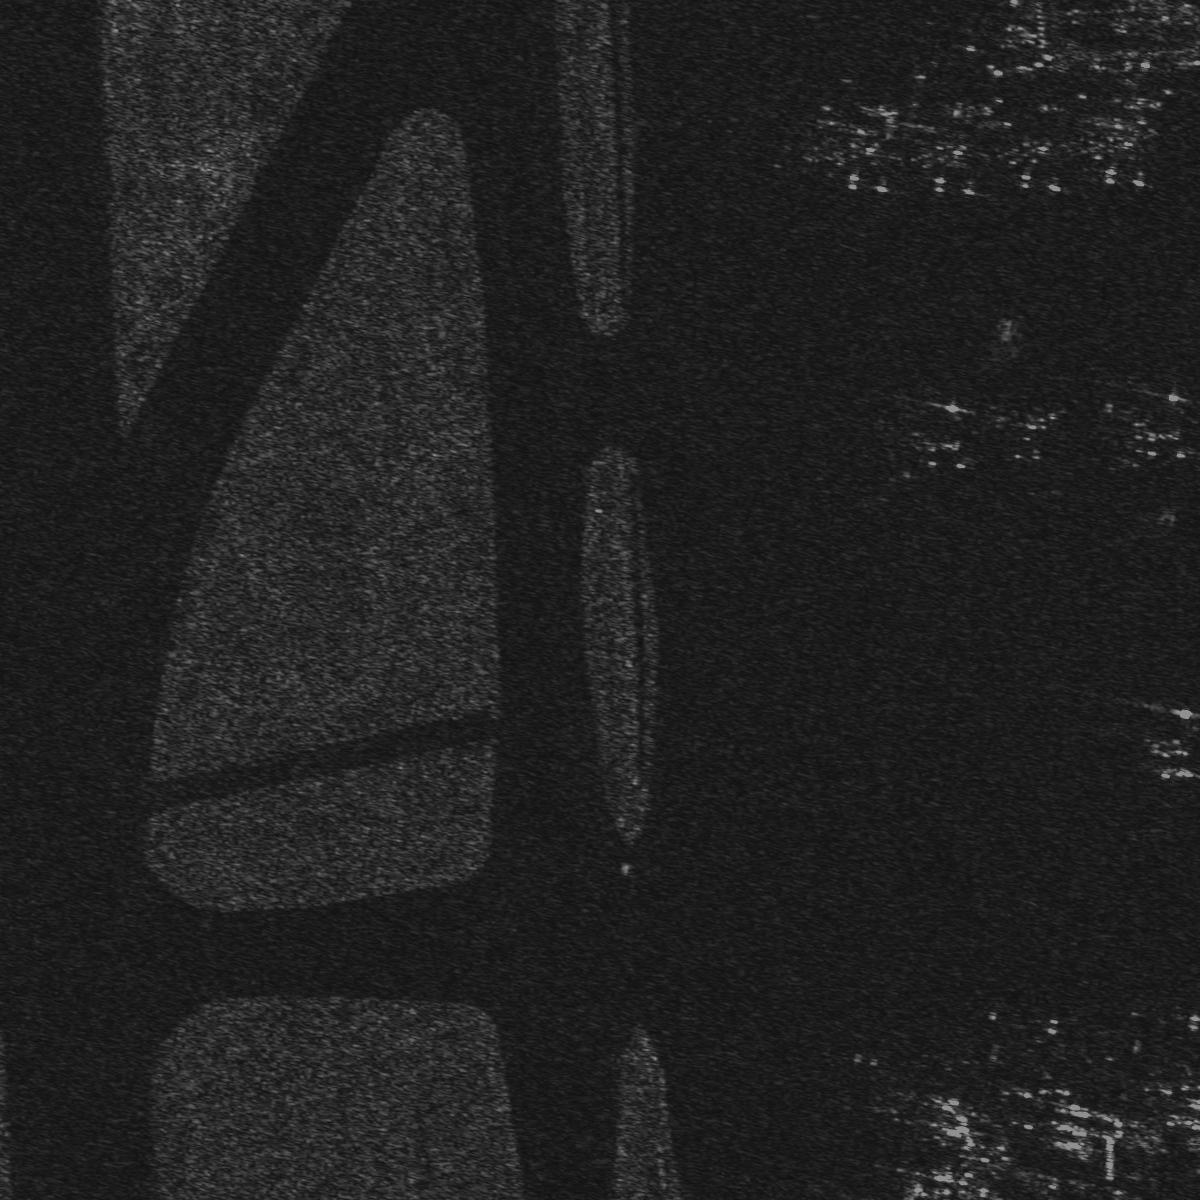A320/321: (832, 102, 904, 195)
Boeing737: (907, 105, 991, 196), (997, 102, 1076, 193)
other: (1105, 379, 1199, 464), (1079, 96, 1162, 191), (896, 392, 976, 475), (993, 395, 1079, 468)
